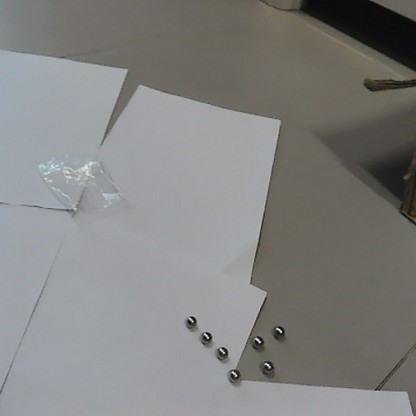ironball: (269, 323, 286, 339), (259, 358, 275, 375), (226, 366, 242, 383), (250, 333, 266, 349), (199, 329, 212, 345), (183, 314, 197, 328), (215, 344, 227, 359)
